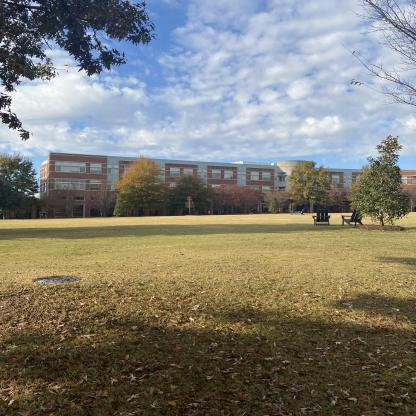EB-1: (37, 144, 409, 212)
